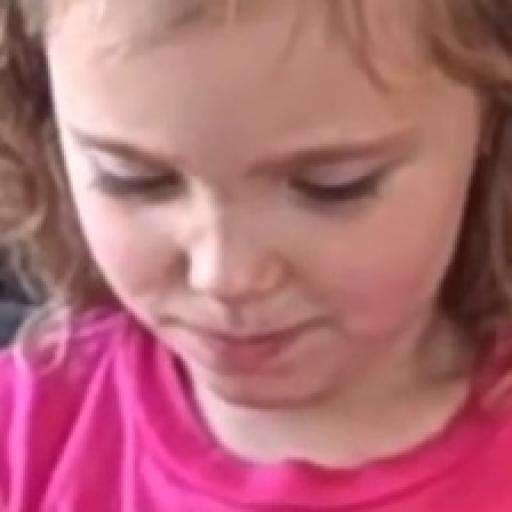Autism: (17, 4, 512, 474)
